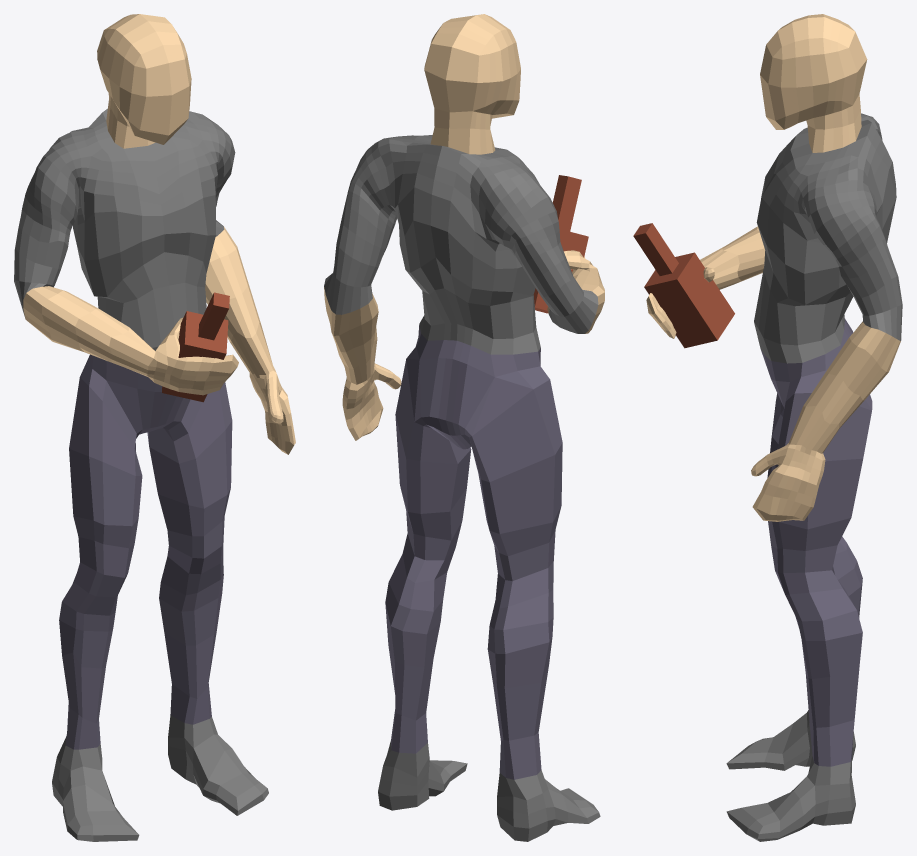
File: Fetard_placeholder.fbx
The picture shows the model from 3 angles, left to right: view 1: azimuth 30°, elevation 25°; view 2: azimuth 150°, elevation 25°; view 3: azimuth 270°, elevation 25°; orthographic projection. The views are drawn at different scales.
Visible parts, largest first — view 1: Roundcube.004, Cube.003; view 2: Roundcube.004, Cube.003; view 3: Roundcube.004, Cube.003.
Boxes of the visible parts, x1,y1,x2,y2 form: Roundcube.004: (14,14,295,841); Cube.003: (162,292,229,402); Roundcube.004: (324,14,604,841); Cube.003: (533,175,588,313); Roundcube.004: (646,14,902,841); Cube.003: (633,223,734,348).
Bounding box in the file's own units: 153 × 457 × 143.
